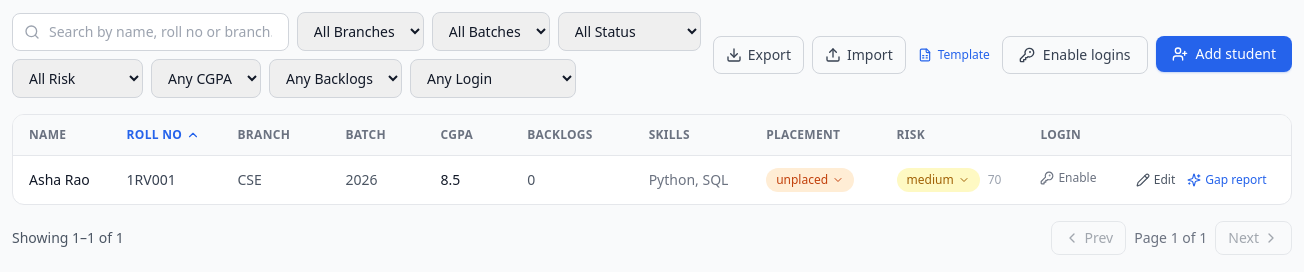
Test: out-of-order responses › ignores a slow earlier response that lands after a newer one
Expected: the text "Asha Rao" is shown, [13,156,111,204]
Type "ab" into the field with placeholder "Search by name, roll no or branch..." at (150, 32), box [12,12,289,50]
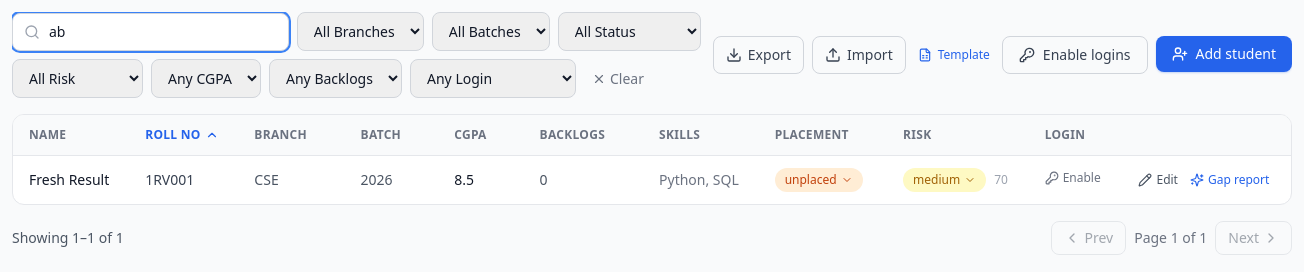
Expected: the text "Fresh Result" is shown, [13,156,129,204]
